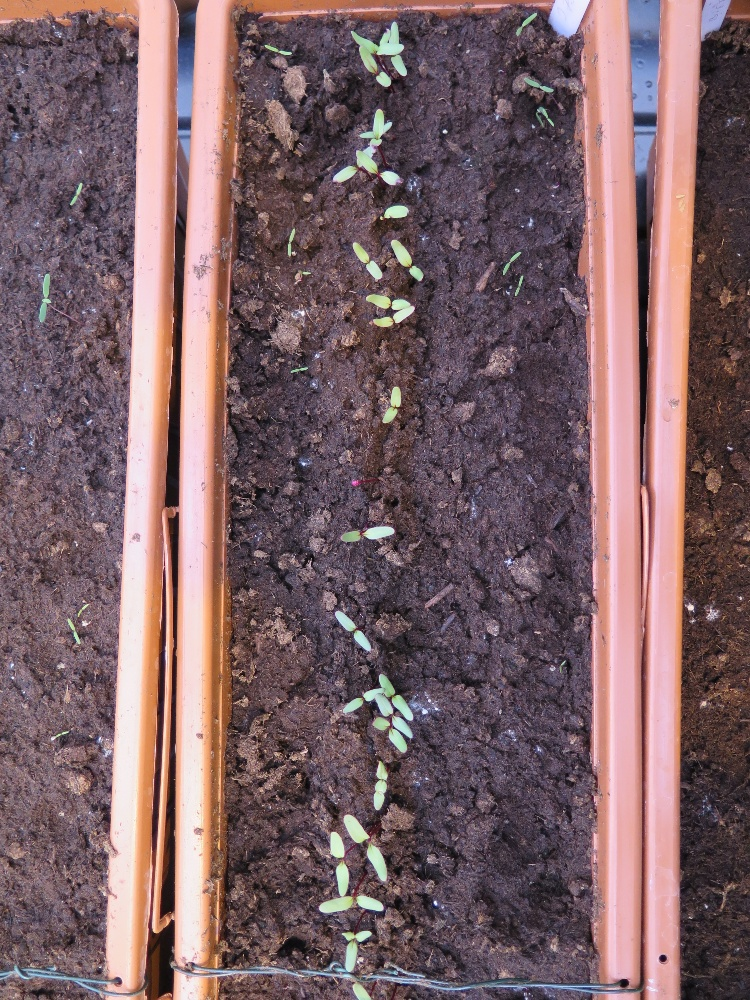crop: (342, 811, 390, 885), (314, 892, 389, 921), (372, 693, 413, 740), (356, 148, 404, 188), (377, 672, 414, 723), (370, 713, 410, 758), (334, 607, 372, 654), (331, 146, 375, 185), (388, 235, 423, 283), (351, 239, 387, 285), (357, 43, 392, 89), (349, 28, 405, 56), (327, 830, 350, 897), (339, 930, 373, 972), (340, 685, 387, 715), (388, 17, 410, 78), (362, 291, 414, 315), (339, 523, 395, 544), (372, 306, 415, 331), (380, 383, 401, 426), (359, 121, 394, 141), (370, 104, 383, 150), (371, 782, 388, 814), (373, 759, 388, 795)
weed: (38, 269, 51, 326), (523, 75, 554, 96), (514, 10, 538, 37), (502, 250, 521, 276), (263, 42, 293, 58), (69, 180, 83, 207), (287, 225, 295, 259), (514, 272, 523, 299), (289, 364, 309, 376)
